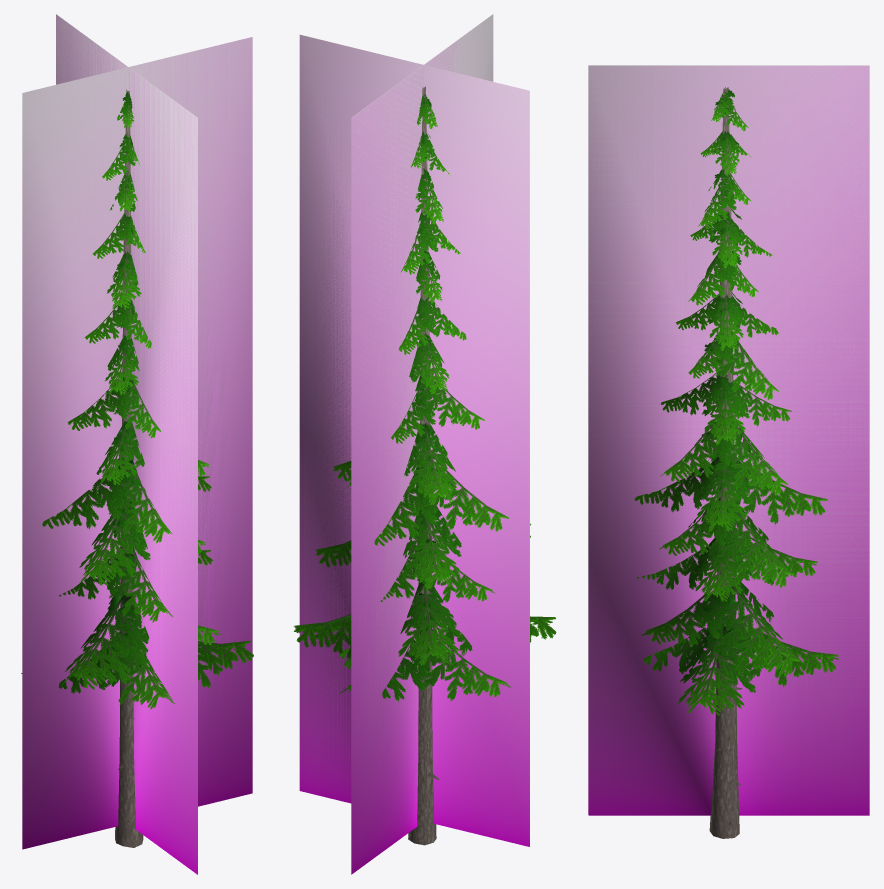
Rendered from FAE_Spruce_C.fbx.
3 renders of one model, left to right at view 1: azimuth 30°, elevation 25°; view 2: azimuth 150°, elevation 25°; view 3: azimuth 270°, elevation 25°, orthographic.
Visible parts, largest first — view 1: FAE_Spruce_C_Billboard, FAE_Spruce_C_LOD0; view 2: FAE_Spruce_C_Billboard, FAE_Spruce_C_LOD0; view 3: FAE_Spruce_C_Billboard, FAE_Spruce_C_LOD0.
Boxes of the visible parts, x1,y1,x2,y2 form: FAE_Spruce_C_Billboard: [22, 14, 252, 874]; FAE_Spruce_C_LOD0: [21, 89, 253, 847]; FAE_Spruce_C_Billboard: [299, 14, 529, 874]; FAE_Spruce_C_LOD0: [293, 86, 556, 845]; FAE_Spruce_C_Billboard: [588, 65, 869, 815]; FAE_Spruce_C_LOD0: [634, 87, 838, 838].
Size of what is drawn, in the model's own units: 413 by 1311 by 436.
Materials: 3 (2 with a texture image).
